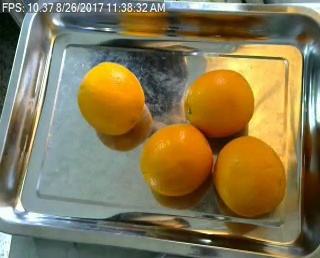Orange: (214, 136, 286, 217), (141, 123, 213, 195), (78, 60, 145, 135), (185, 69, 255, 138)
